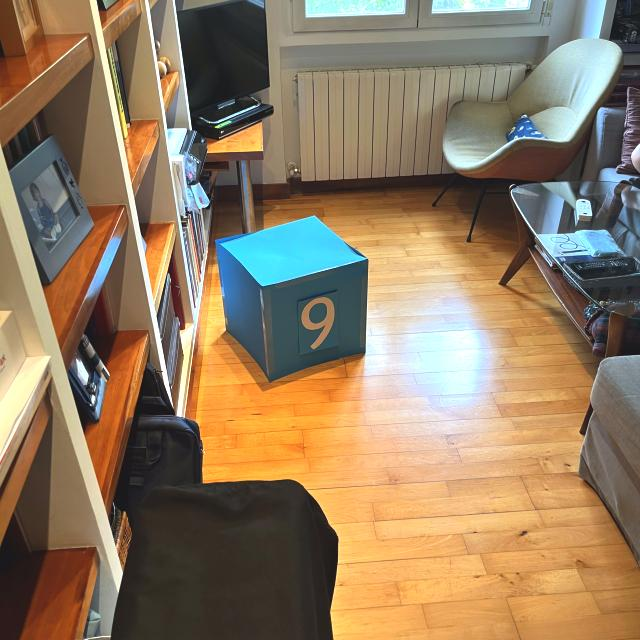box: (212, 211, 372, 383)
